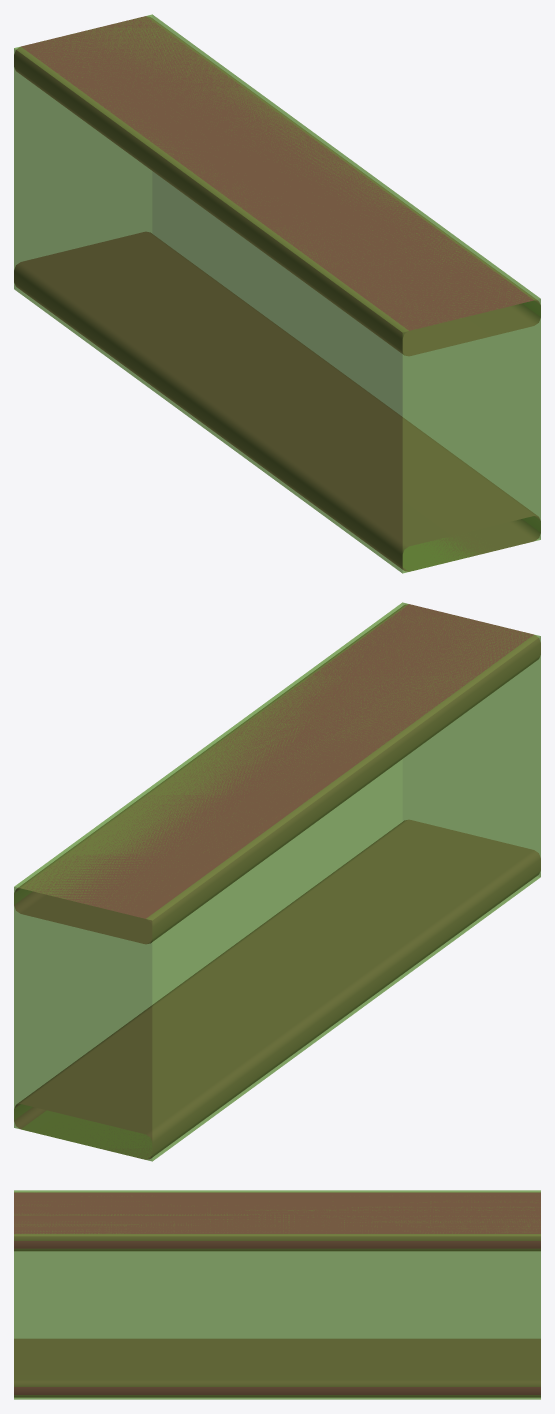
The model's file is M_md_CabinetShelve_1m.fbx.
3 views of the same model, one above another, from view 1: azimuth 30°, elevation 25°; view 2: azimuth 150°, elevation 25°; view 3: azimuth 270°, elevation 25° (orthographic). The views are drawn at different scales.
Parts seen in each view (by area): view 1: M_md_CabinetShelve_1m_col_01, M_md_CabinetShelve_1m_LOD0; view 2: M_md_CabinetShelve_1m_col_01, M_md_CabinetShelve_1m_LOD0; view 3: M_md_CabinetShelve_1m_col_01, M_md_CabinetShelve_1m_LOD0.
Boxes of the visible parts, x1=… form: M_md_CabinetShelve_1m_col_01: x1=14, y1=14, x2=540, y2=573; M_md_CabinetShelve_1m_LOD0: x1=14, y1=16, x2=540, y2=571; M_md_CabinetShelve_1m_col_01: x1=14, y1=602, x2=540, y2=1161; M_md_CabinetShelve_1m_LOD0: x1=14, y1=604, x2=540, y2=1159; M_md_CabinetShelve_1m_col_01: x1=14, y1=1190, x2=540, y2=1399; M_md_CabinetShelve_1m_LOD0: x1=14, y1=1192, x2=540, y2=1397.
Size of what is drawn, in the model's own units: 20.58 by 34.22 by 100.
